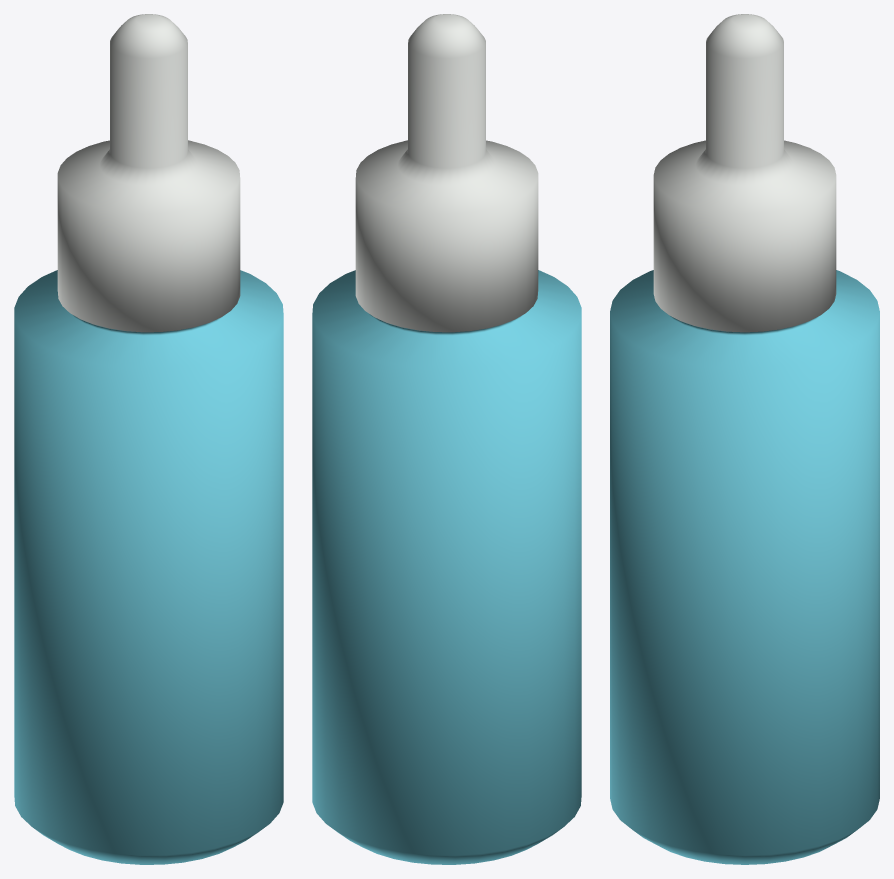
File: Serum .fbx
3 renders of one model, left to right at view 1: azimuth 30°, elevation 25°; view 2: azimuth 150°, elevation 25°; view 3: azimuth 270°, elevation 25°, orthographic.
Parts seen in each view (by area): view 1: Serum; view 2: Serum; view 3: Serum.
Part boxes in pixels (x1,y1,x2,y2): Serum: [14, 14, 283, 864]; Serum: [312, 14, 581, 864]; Serum: [610, 14, 879, 864].
Size of the model in its own units: 3.65 by 11.98 by 3.65.
